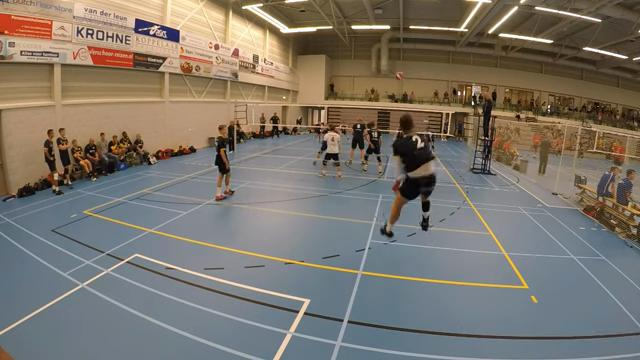Attack: (378, 110, 440, 245)
Player: (215, 125, 234, 200), (319, 124, 342, 178), (363, 121, 382, 174), (348, 117, 365, 163), (313, 140, 326, 165), (425, 132, 435, 153), (315, 122, 325, 141), (339, 123, 347, 139), (394, 128, 403, 140)
ball: (395, 72, 404, 78)
